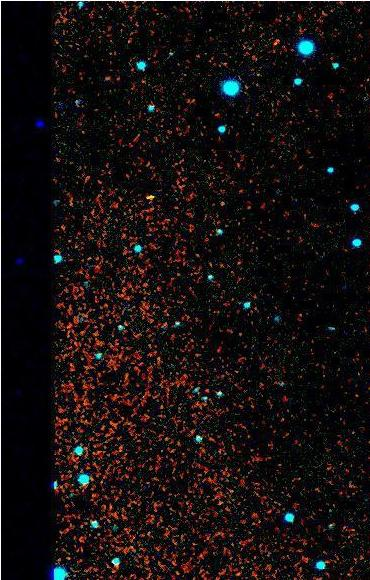star: (137, 183, 167, 213)
